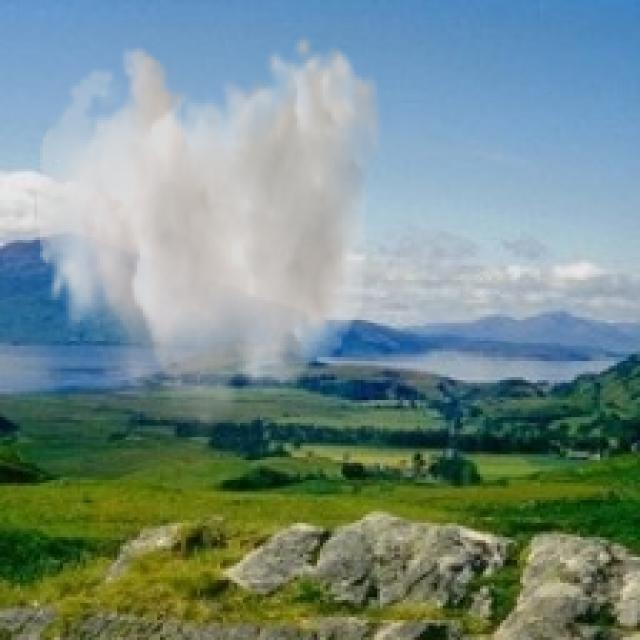smoke: (34, 34, 383, 446)
